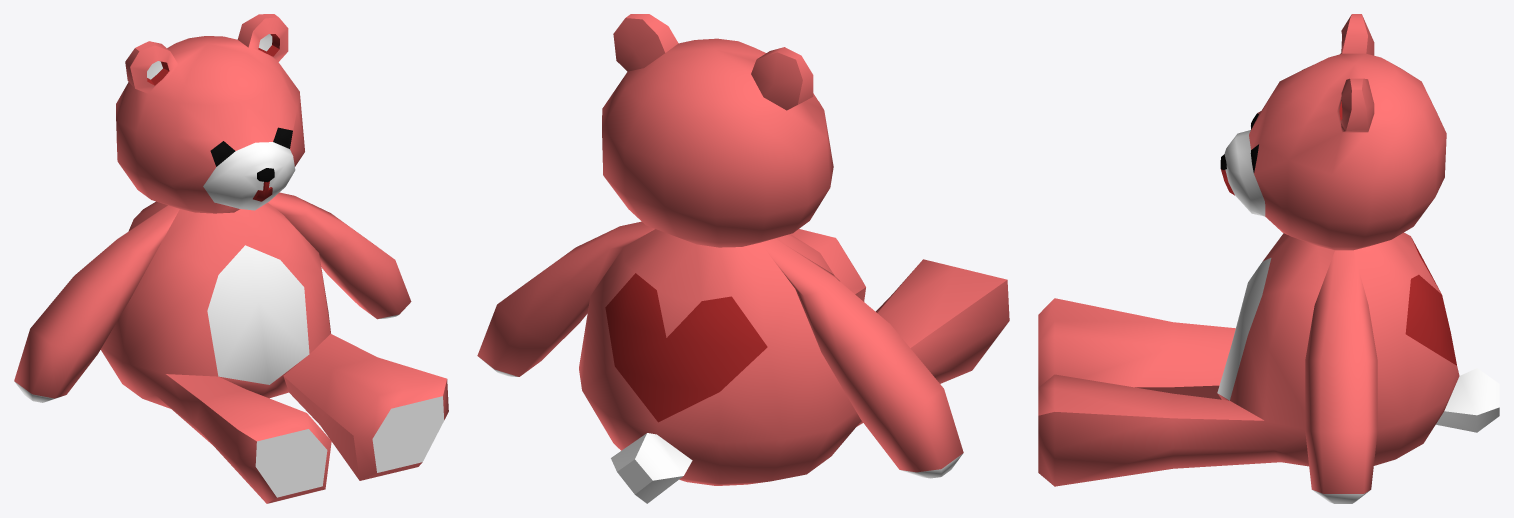
File: Gomdol1-1.fbx
3 views of the same model, side by side, from view 1: azimuth 30°, elevation 25°; view 2: azimuth 150°, elevation 25°; view 3: azimuth 270°, elevation 25° (orthographic). The views are drawn at different scales.
Parts seen in each view (by area): view 1: Sphere006; view 2: Sphere006; view 3: Sphere006.
Part boxes in pixels (x1,y1,x2,y2): Sphere006: (14, 14, 448, 503); Sphere006: (477, 14, 1009, 503); Sphere006: (1038, 14, 1499, 503).
Bounding box in the file's own units: 2.52 × 2.26 × 2.38.
